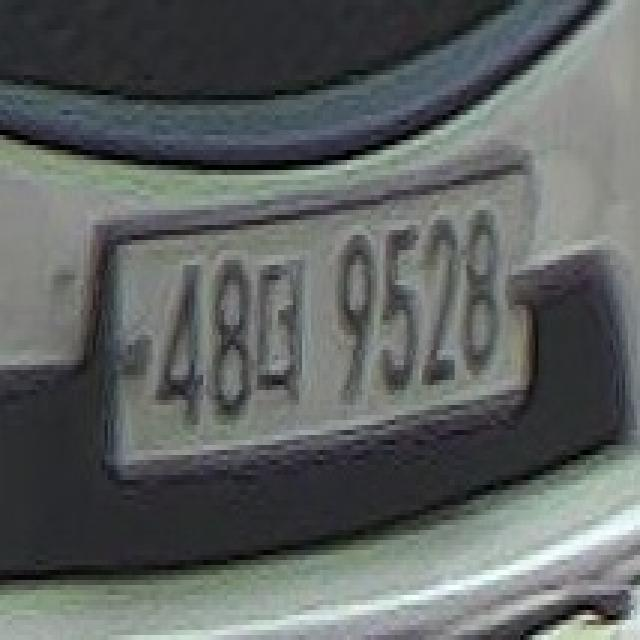2: (423, 217, 460, 409)
4: (149, 254, 206, 443)
5: (379, 216, 419, 414)
8: (209, 252, 253, 437), (460, 206, 503, 392)
9: (332, 228, 375, 420)
deo: (256, 250, 311, 421)
license_plate: (84, 131, 547, 517)
